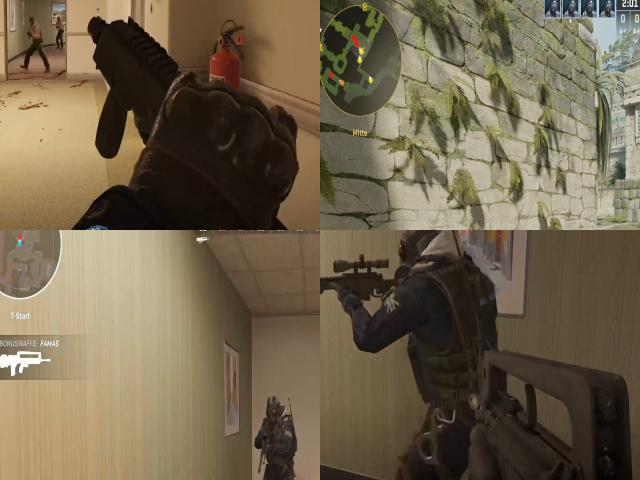CT: (260, 392, 295, 480), (266, 394, 285, 427)
CT-Head: (403, 230, 499, 472), (390, 230, 449, 285)
